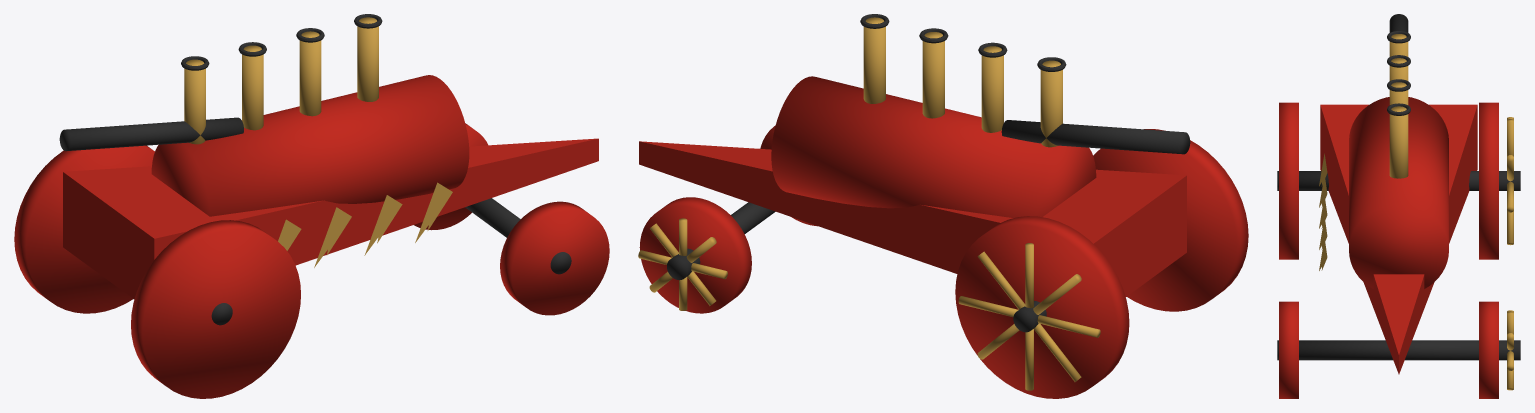
3 renders of one model, left to right at view 1: azimuth 30°, elevation 25°; view 2: azimuth 150°, elevation 25°; view 3: azimuth 270°, elevation 25°, orthographic. The views are drawn at different scales.
Visible parts, largest first — view 1: TI061 / exposed steam boiler, TI061 / pointed red racing chassis, TI061 / separate racer wheel, TI061 / separate racer wheel.001, TI061 / separate racer wheel.002, TI061 / ornamental rear harpoon assembly, TI061 / steam exhaust stack.002, TI061 / steam exhaust stack.001, TI061 / steam exhaust stack.003, TI061 / steam exhaust stack, TI061 / wheel axle.002, TI061 / separate racer wheel.003 (+3 smaller); view 2: TI061 / exposed steam boiler, TI061 / pointed red racing chassis, TI061 / separate racer wheel.001, TI061 / separate racer wheel, TI061 / separate racer wheel.003, TI061 / ornamental rear harpoon assembly, TI061 / steam exhaust stack.002, TI061 / steam exhaust stack.001, TI061 / steam exhaust stack.003, TI061 / steam exhaust stack, TI061 / wheel axle.002, TI061 / wheel spoke.013 (+6 smaller); view 3: TI061 / exposed steam boiler, TI061 / pointed red racing chassis, TI061 / wheel axle.002, TI061 / separate racer wheel, TI061 / separate racer wheel.001, TI061 / separate racer wheel.002, TI061 / separate racer wheel.003, TI061 / steam exhaust stack.003, TI061 / wheel axle, TI061 / steam exhaust stack.002, TI061 / steam exhaust stack.001, TI061 / steam exhaust stack (+3 smaller).
Part boxes in pixels (box(x1,y1,x2,y2)): TI061 / exposed steam boiler: box(151, 75, 469, 216); TI061 / pointed red racing chassis: box(63, 138, 598, 299); TI061 / separate racer wheel: box(131, 220, 300, 398); TI061 / separate racer wheel.001: box(14, 145, 154, 313); TI061 / separate racer wheel.002: box(500, 201, 609, 315); TI061 / ornamental rear harpoon assembly: box(59, 117, 243, 151); TI061 / steam exhaust stack.002: box(299, 31, 321, 116); TI061 / steam exhaust stack.001: box(242, 45, 263, 130); TI061 / steam exhaust stack.003: box(357, 17, 378, 101); TI061 / steam exhaust stack: box(184, 59, 205, 144); TI061 / wheel axle.002: box(465, 198, 571, 274); TI061 / separate racer wheel.003: box(414, 123, 487, 230); TI061 / exposed steam boiler: box(771, 76, 1096, 217); TI061 / pointed red racing chassis: box(639, 141, 1186, 296); TI061 / separate racer wheel.001: box(955, 216, 1129, 398); TI061 / separate racer wheel: box(1093, 129, 1248, 311); TI061 / separate racer wheel.003: box(639, 197, 751, 313); TI061 / ornamental rear harpoon assembly: box(1001, 120, 1190, 154); TI061 / steam exhaust stack.002: box(922, 32, 944, 118); TI061 / steam exhaust stack.001: box(981, 46, 1003, 132); TI061 / steam exhaust stack.003: box(863, 17, 885, 103); TI061 / steam exhaust stack: box(1040, 60, 1062, 147); TI061 / wheel axle.002: box(667, 202, 775, 280); TI061 / wheel spoke.013: box(1033, 323, 1081, 381); TI061 / exposed steam boiler: box(1349, 97, 1448, 288); TI061 / pointed red racing chassis: box(1320, 104, 1477, 374); TI061 / wheel axle.002: box(1277, 340, 1520, 360); TI061 / separate racer wheel: box(1279, 102, 1298, 259); TI061 / separate racer wheel.001: box(1479, 102, 1498, 259); TI061 / separate racer wheel.002: box(1279, 301, 1298, 398); TI061 / separate racer wheel.003: box(1479, 301, 1498, 398); TI061 / steam exhaust stack.003: box(1389, 106, 1408, 178); TI061 / wheel axle: box(1277, 171, 1520, 190); TI061 / steam exhaust stack.002: box(1389, 82, 1408, 104); TI061 / steam exhaust stack.001: box(1389, 58, 1408, 80); TI061 / steam exhaust stack: box(1389, 34, 1408, 56).
Bounding box in the file's own units: 3.71 × 1.81 × 1.7.
